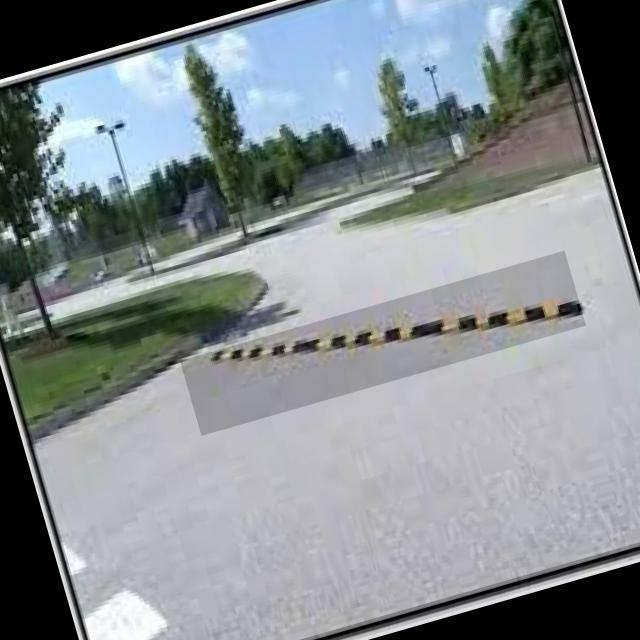bump: (180, 250, 586, 435)
